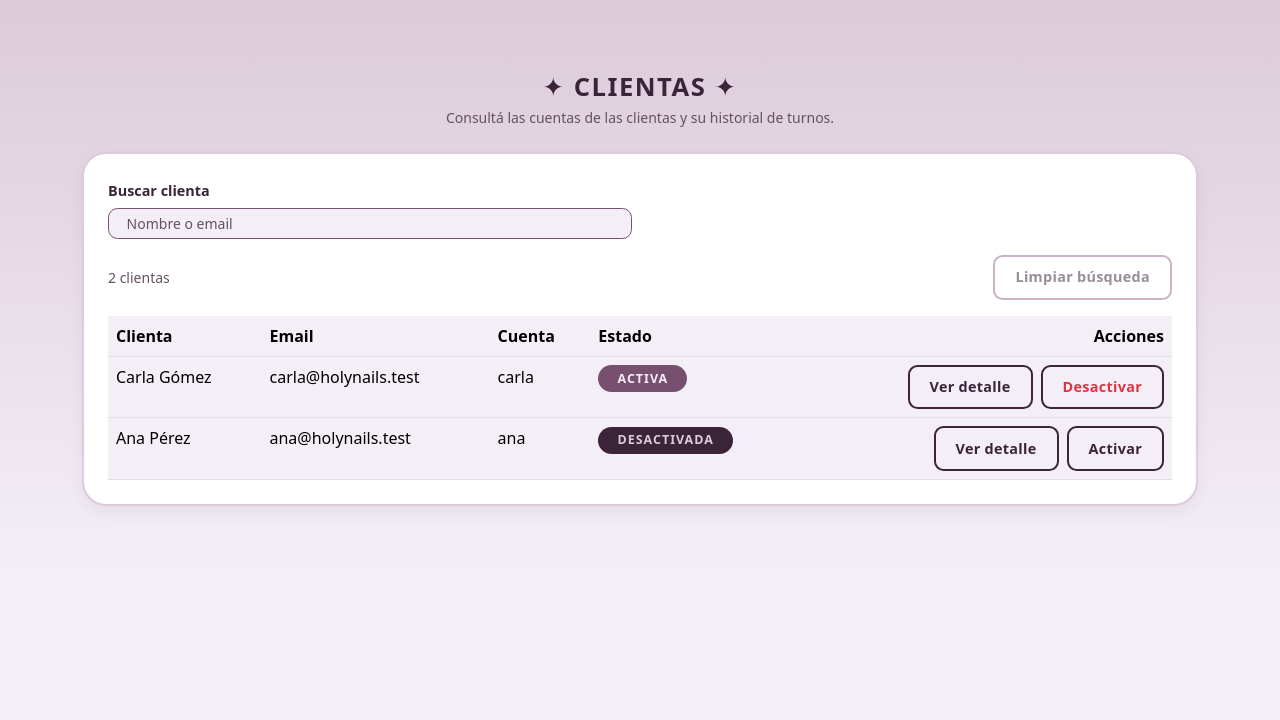
AdminClientas — búsqueda › busca por nombre
Expected: the table is shown, [108, 316, 1172, 480]
In the search field labelled "Buscar clienta": [370, 223] box [108, 208, 632, 239], type "Pérez"
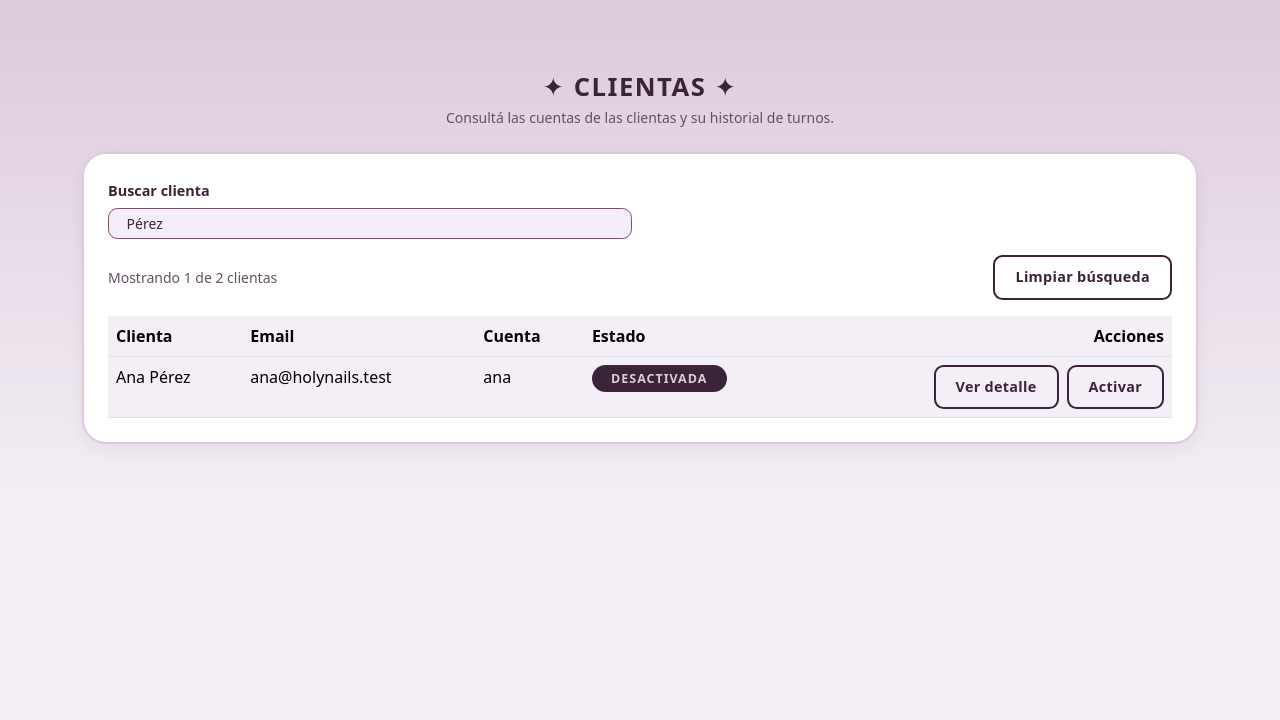
Expected: the text "Ana Pérez" is shown, [108, 356, 242, 418]
Expected: the text "Carla Gómez" is gone
Expected: the text "Mostrando 1 de 2 clientas" is shown, [108, 267, 277, 288]
